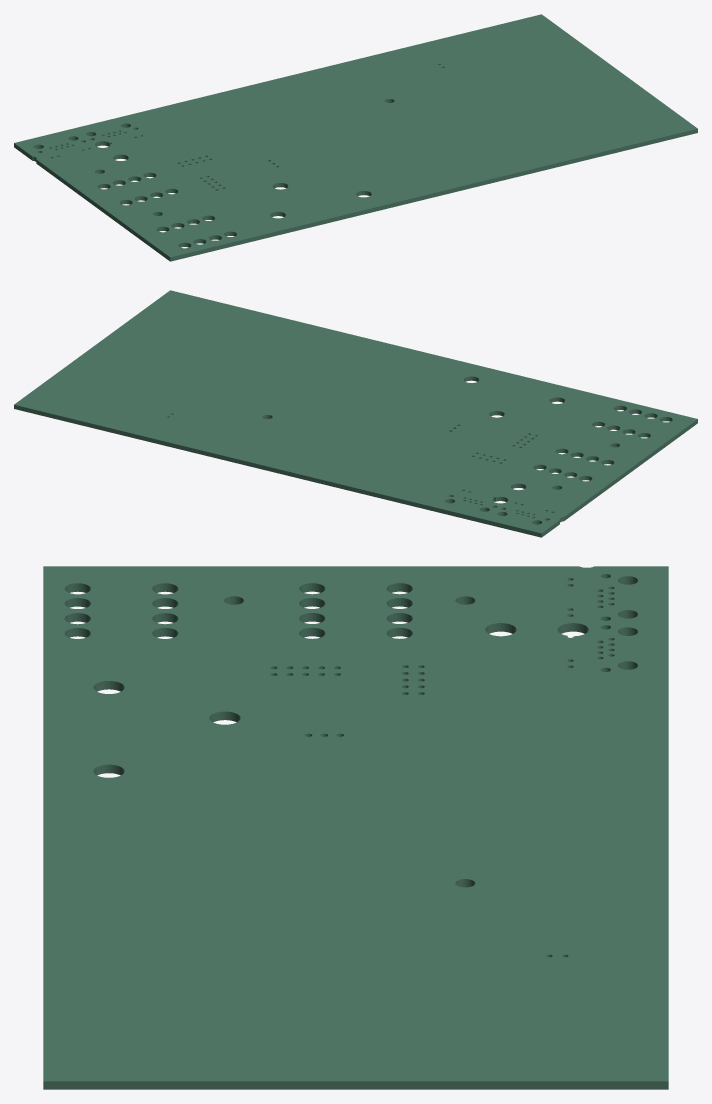
The model's file is pcb-bmu-v2.glb.
3 views of the same model, one above another, from view 1: azimuth 30°, elevation 25°; view 2: azimuth 150°, elevation 25°; view 3: azimuth 270°, elevation 25° (orthographic). The views are drawn at different scales.
Visible parts, largest first — view 1: =>[0:1:1:2]; view 2: =>[0:1:1:2]; view 3: =>[0:1:1:2].
Part boxes in pixels (bbox=[...]): =>[0:1:1:2]: bbox=[14, 14, 697, 261]; =>[0:1:1:2]: bbox=[14, 290, 697, 537]; =>[0:1:1:2]: bbox=[43, 566, 668, 1089].
Bounding box in the file's own units: 0.1949 × 0.00151 × 0.1.
